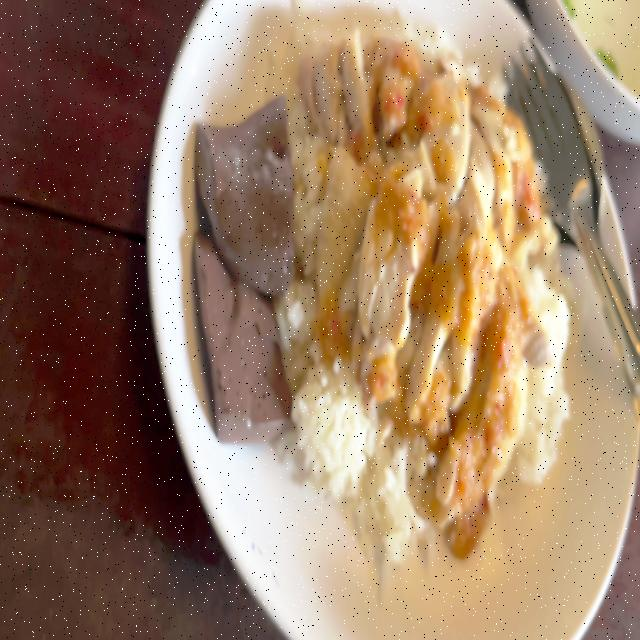boiled_chicken: (293, 32, 530, 448)
boiled_chicken_blood_jelly: (190, 228, 284, 441), (194, 95, 295, 291)
chicken_rice: (195, 4, 577, 570)
